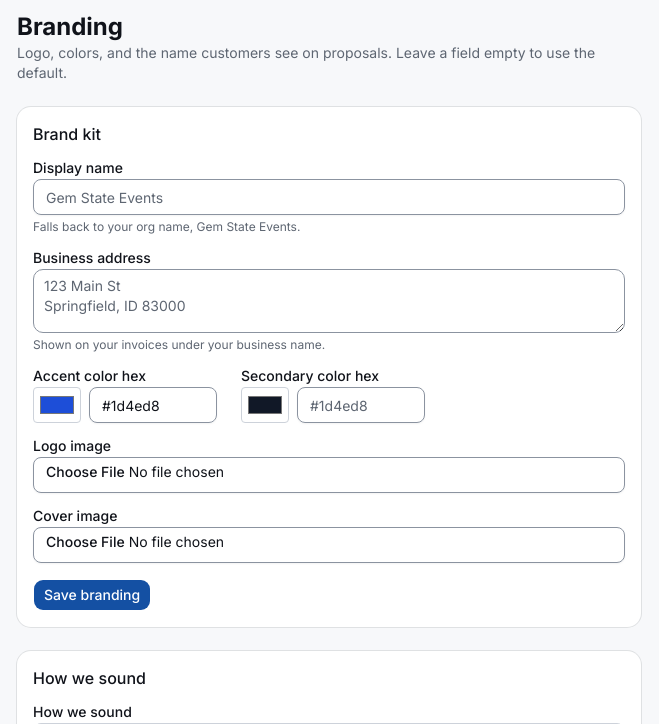
Test: BrandingClient › saves edited branding through updateOrgBranding and reflects the response
Type "BrewTrax" into the field labelled "Display name".
click(329, 197); type("BrewTrax")  # box [33,179,625,215]
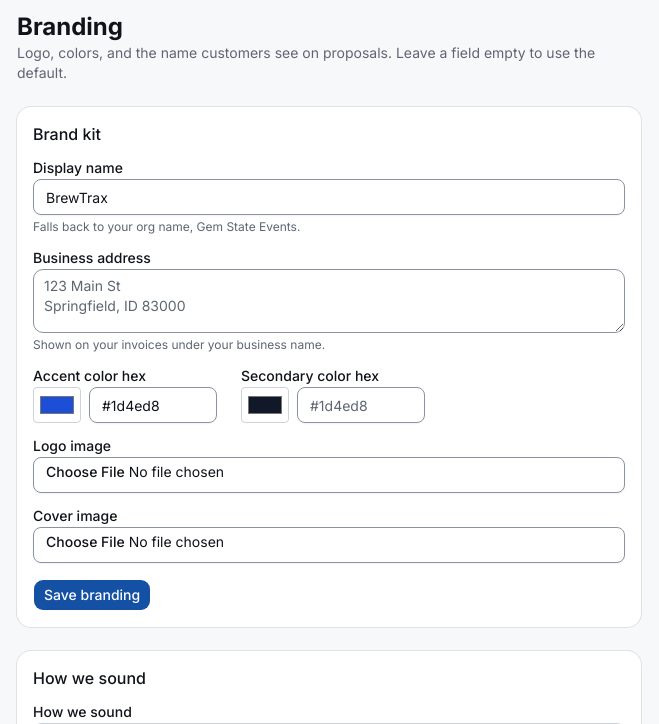
Click the button "Save branding".
click(92, 595)  # box [33,579,151,611]
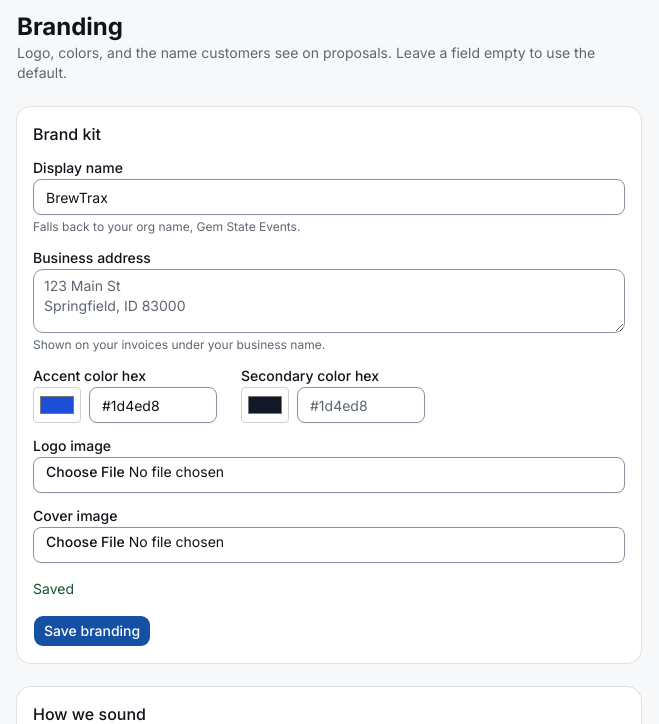
Expected: the text "Saved" is shown, [33,580,74,597]
